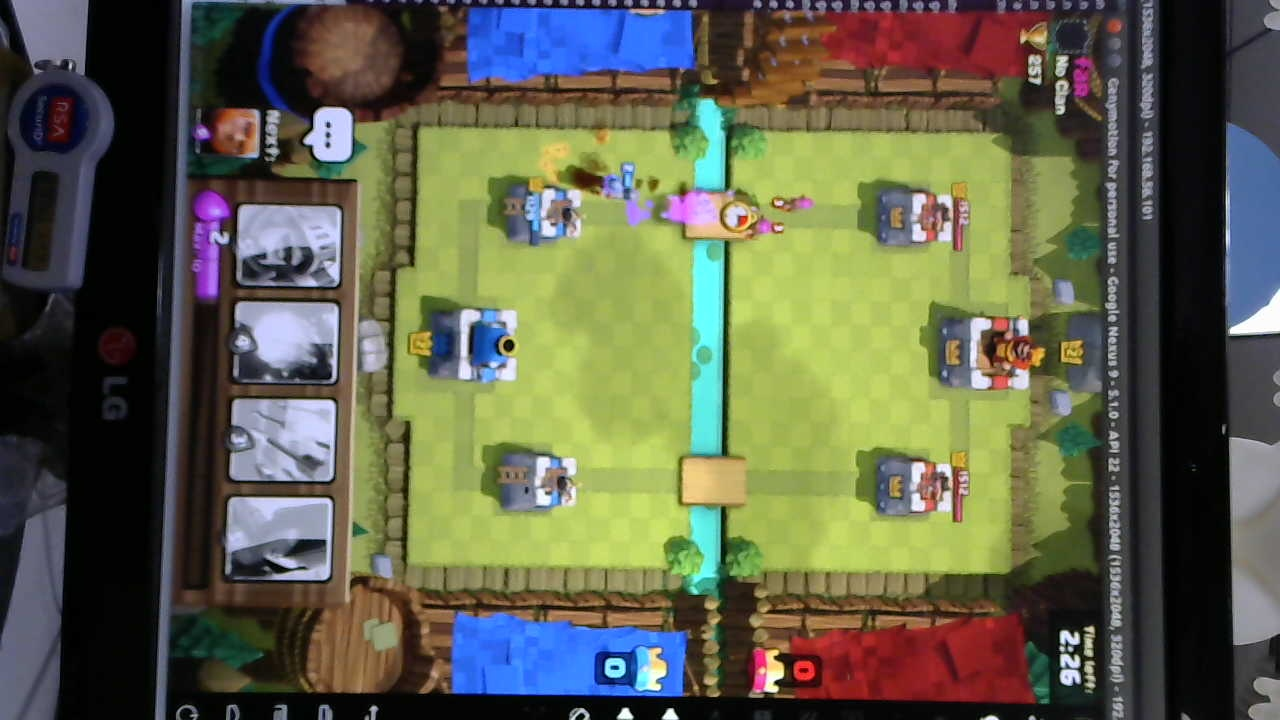archers: (744, 191, 814, 246)
arena: (498, 451, 582, 514), (506, 182, 587, 246)
earena: (874, 453, 958, 520), (878, 188, 956, 247)
eking: (937, 311, 1044, 396)
king: (436, 305, 522, 387)
musketeer: (583, 171, 637, 204)
